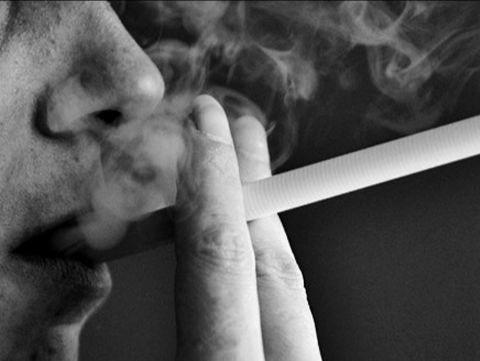Cigarette: (50, 112, 480, 258)
Smoke: (80, 0, 462, 245)
